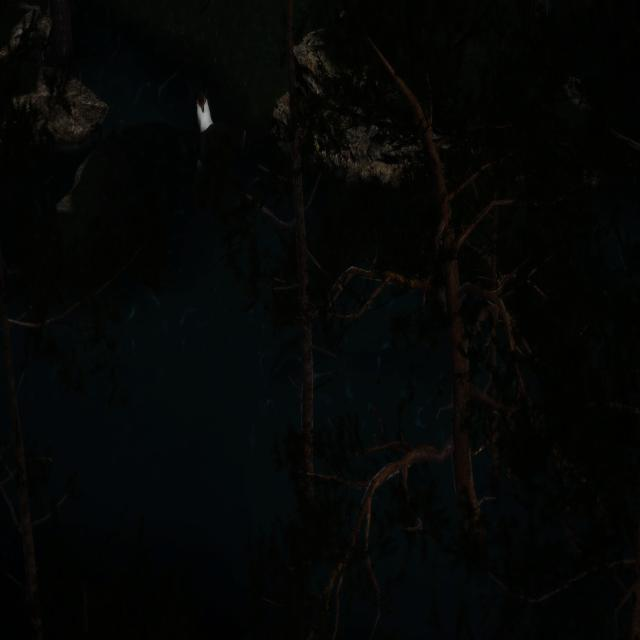Human: (189, 86, 242, 184)
